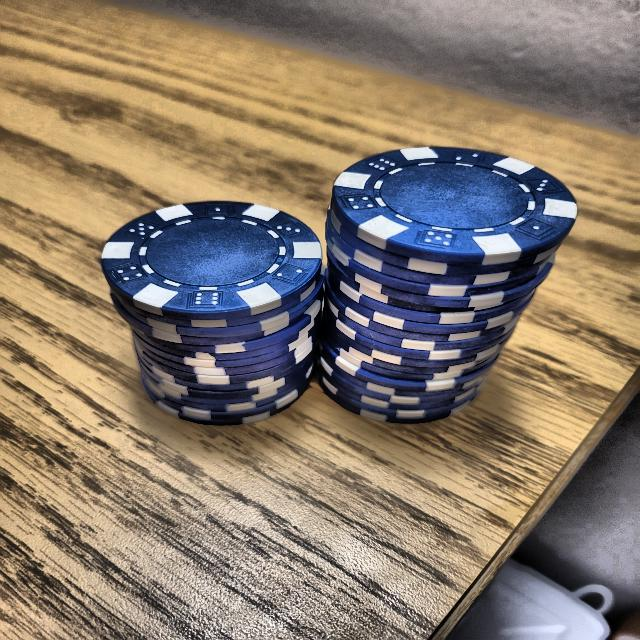Chip: (285, 137, 599, 420), (82, 180, 354, 437)
